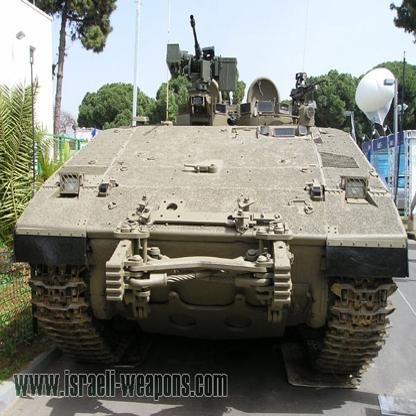Tank: (13, 9, 410, 395)
